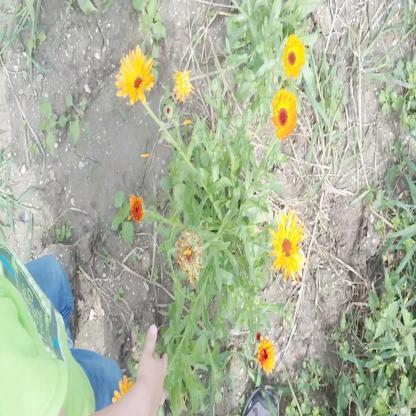marigold: (270, 210, 304, 282), (116, 48, 152, 103), (271, 88, 297, 139), (282, 34, 304, 77), (256, 337, 275, 370), (174, 70, 191, 98)
